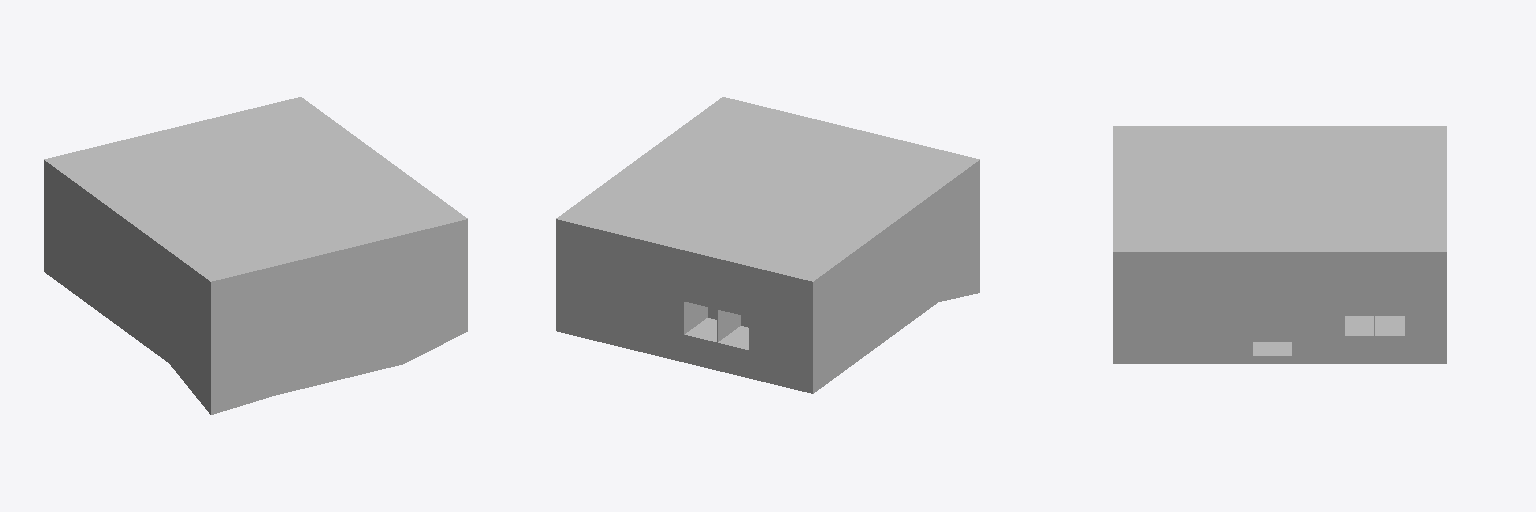
The model's file is house1.obj.
3 views of the same model, side by side, from view 1: azimuth 30°, elevation 25°; view 2: azimuth 150°, elevation 25°; view 3: azimuth 270°, elevation 25° (orthographic).
Parts seen in each view (by area): view 1: 立方体; view 2: 立方体; view 3: 立方体.
Part boxes in pixels (left/top/right/bottom): 立方体: left=44, top=97, right=467, bottom=414; 立方体: left=556, top=97, right=979, bottom=393; 立方体: left=1113, top=126, right=1446, bottom=363.
Bounding box in the file's own units: 48 × 23.78 × 54.